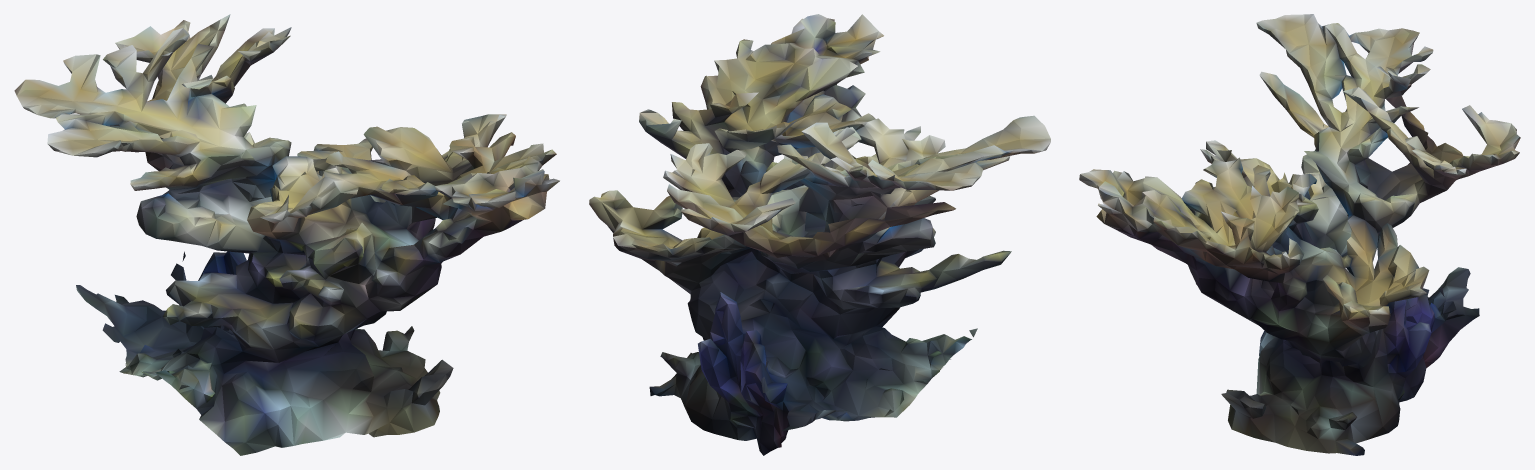
The model's file is elkhorn.glb.
3 renders of one model, left to right at view 1: azimuth 30°, elevation 25°; view 2: azimuth 150°, elevation 25°; view 3: azimuth 270°, elevation 25°, orthographic. The views are drawn at different scales.
Parts seen in each view (by area): view 1: elkhorn; view 2: elkhorn; view 3: elkhorn.
Boxes of the visible parts, x1,y1,x2,y2 form: elkhorn: [14, 14, 559, 455]; elkhorn: [589, 14, 1050, 455]; elkhorn: [1079, 14, 1520, 455].
Bounding box in the file's own units: 3.23 × 2.47 × 3.24.
